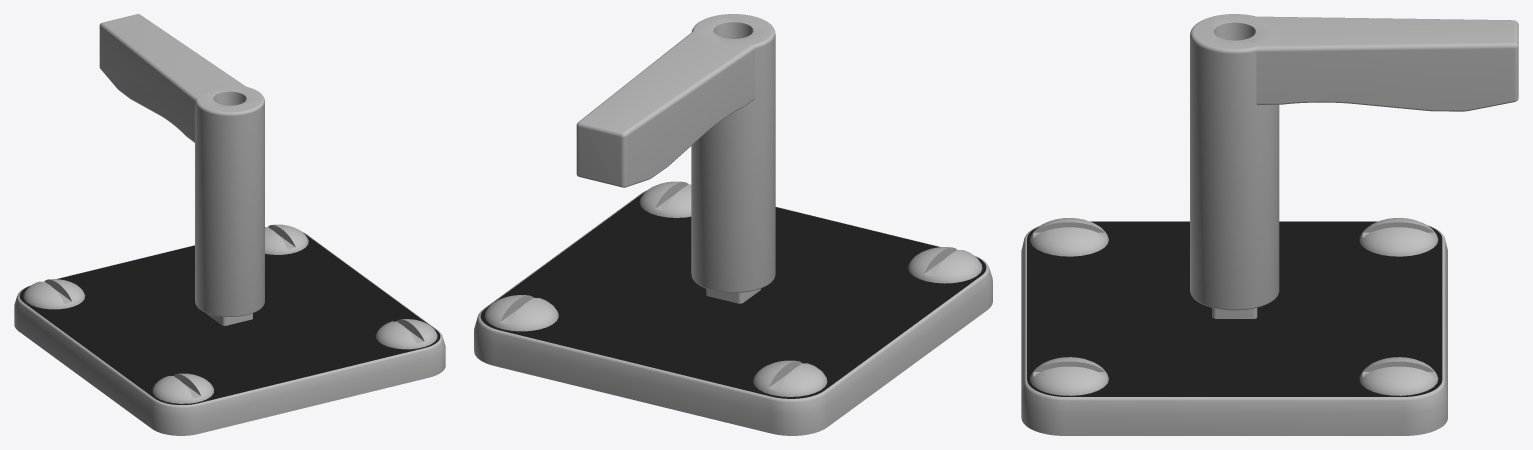
File: selector_switch_2.glb
3 renders of one model, left to right at view 1: azimuth 30°, elevation 25°; view 2: azimuth 150°, elevation 25°; view 3: azimuth 270°, elevation 25°, orthographic. The views are drawn at different scales.
Visible parts, largest first — view 1: Cube.003, Cylinder.003, Cube.001, Cylinder.002, Sphere.001; view 2: Cube.003, Cube.001, Cylinder.003, Cylinder.002, Sphere.001; view 3: Cube.003, Cylinder.003, Cylinder.002, Cube.001, Sphere.001.
Boxes of the visible parts, x1,y1,x2,y2 form: Cube.003: (19, 233, 440, 404); Cylinder.003: (195, 85, 264, 316); Cube.001: (14, 231, 445, 435); Cylinder.002: (99, 14, 245, 142); Sphere.001: (23, 224, 437, 403); Cube.003: (480, 192, 986, 398); Cube.001: (474, 190, 992, 435); Cylinder.003: (691, 14, 775, 292); Cylinder.002: (576, 31, 754, 187); Sphere.001: (484, 181, 982, 396); Cube.003: (1027, 221, 1442, 396); Cylinder.003: (1190, 14, 1279, 310); Cylinder.002: (1256, 16, 1518, 111); Cube.001: (1021, 221, 1447, 435); Sphere.001: (1030, 218, 1438, 395).
Size of the model in its own units: 2 by 1.63 by 2.33.
Materials: 6 (6 with a texture image).
